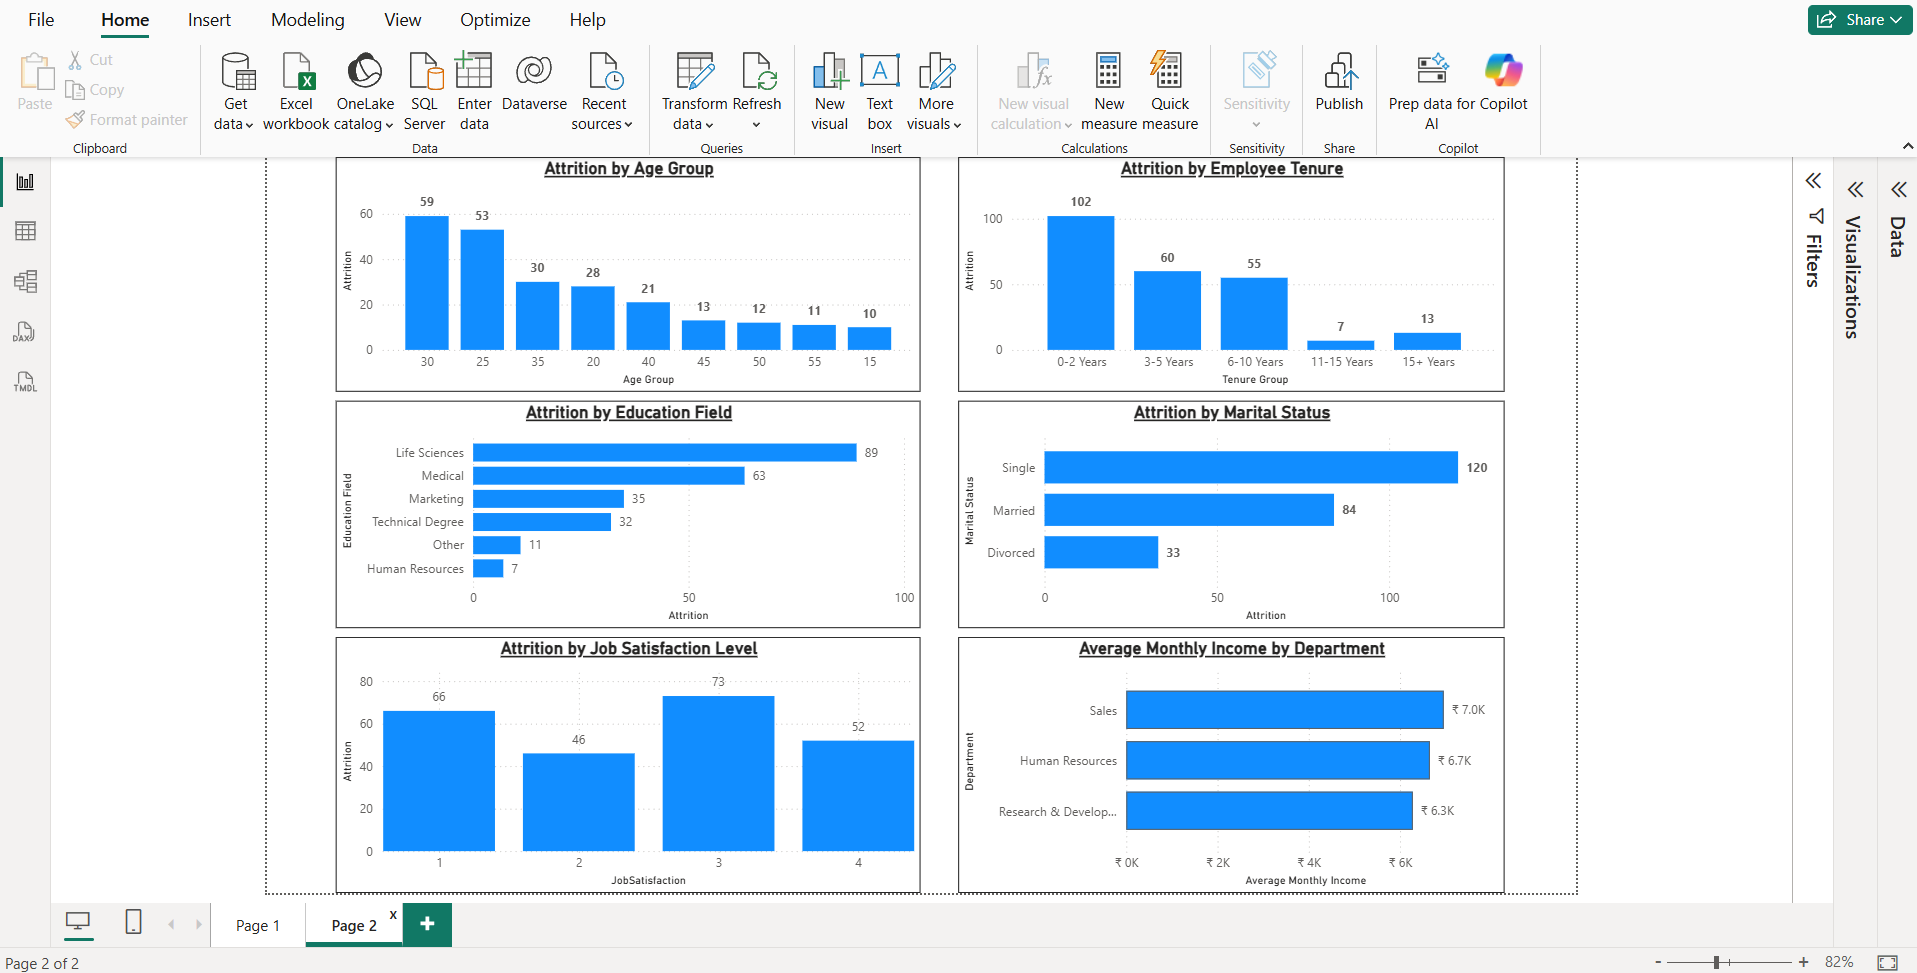

The dashboard page shown, as its layout file describes it:
{"tool":"powerbi","page":{"name":"Page 2","canvas":[1280,720],"ordinal":1},"visuals":[{"type":"clusteredColumnChart","fields":{"Category":["WA_Fn-UseC_-HR-Employee-Attrition.Age (bins)"],"Y":["Count(WA_Fn-UseC_-HR-Employee-Attrition.EmployeeNumber)"]},"box":[67.3,0,572.3,229.9],"z":0},{"type":"clusteredBarChart","fields":{"Category":["WA_Fn-UseC_-HR-Employee-Attrition.EducationField"],"Y":["Count(WA_Fn-UseC_-HR-Employee-Attrition.EmployeeNumber)"]},"box":[67.3,238.5,572.3,222.6],"z":1000},{"type":"clusteredColumnChart","title":"Attrition by Employee Tenure","fields":{"Y":["Count(WA_Fn-UseC_-HR-Employee-Attrition.EmployeeNumber)"],"Category":["WA_Fn-UseC_-HR-Employee-Attrition.Tenure Group"]},"box":[676.2,0,534.4,229.9],"z":2000},{"type":"clusteredBarChart","fields":{"Category":["WA_Fn-UseC_-HR-Employee-Attrition.MaritalStatus"],"Y":["Count(WA_Fn-UseC_-HR-Employee-Attrition.EmployeeNumber)"]},"box":[676.2,238.5,534.4,222.6],"z":3000},{"type":"clusteredColumnChart","title":"Attrition by Job Satisfaction Level","fields":{"Category":["WA_Fn-UseC_-HR-Employee-Attrition.JobSatisfaction"],"Y":["Count(WA_Fn-UseC_-HR-Employee-Attrition.EmployeeNumber)"]},"box":[67.3,469.6,572.3,250.7],"z":4000},{"type":"clusteredBarChart","fields":{"Category":["WA_Fn-UseC_-HR-Employee-Attrition.Department"],"Y":["Avg(WA_Fn-UseC_-HR-Employee-Attrition.MonthlyIncome)"]},"box":[676.2,469.6,534.4,250.7],"z":5000}]}

Visuals, with their boxes on the page's 1280x720 design canvas (x1, y1, x2, y2). These are canvas units, not pixel positions in the 1917x973 screenshot, which may show the page scaled, cropped or inside an application window:
clusteredColumnChart - WA_Fn-UseC_-HR-Employee-Attrition.Age (bins) x Count(WA_Fn-UseC_-HR-Employee-Attrition.EmployeeNumber): pyautogui.locateOnScreen(67, 0, 640, 230)
clusteredBarChart - WA_Fn-UseC_-HR-Employee-Attrition.EducationField x Count(WA_Fn-UseC_-HR-Employee-Attrition.EmployeeNumber): pyautogui.locateOnScreen(67, 238, 640, 461)
"Attrition by Employee Tenure" clusteredColumnChart: pyautogui.locateOnScreen(676, 0, 1211, 230)
clusteredBarChart - WA_Fn-UseC_-HR-Employee-Attrition.MaritalStatus x Count(WA_Fn-UseC_-HR-Employee-Attrition.EmployeeNumber): pyautogui.locateOnScreen(676, 238, 1211, 461)
"Attrition by Job Satisfaction Level" clusteredColumnChart: pyautogui.locateOnScreen(67, 470, 640, 720)
clusteredBarChart - WA_Fn-UseC_-HR-Employee-Attrition.Department x Avg(WA_Fn-UseC_-HR-Employee-Attrition.MonthlyIncome): pyautogui.locateOnScreen(676, 470, 1211, 720)
